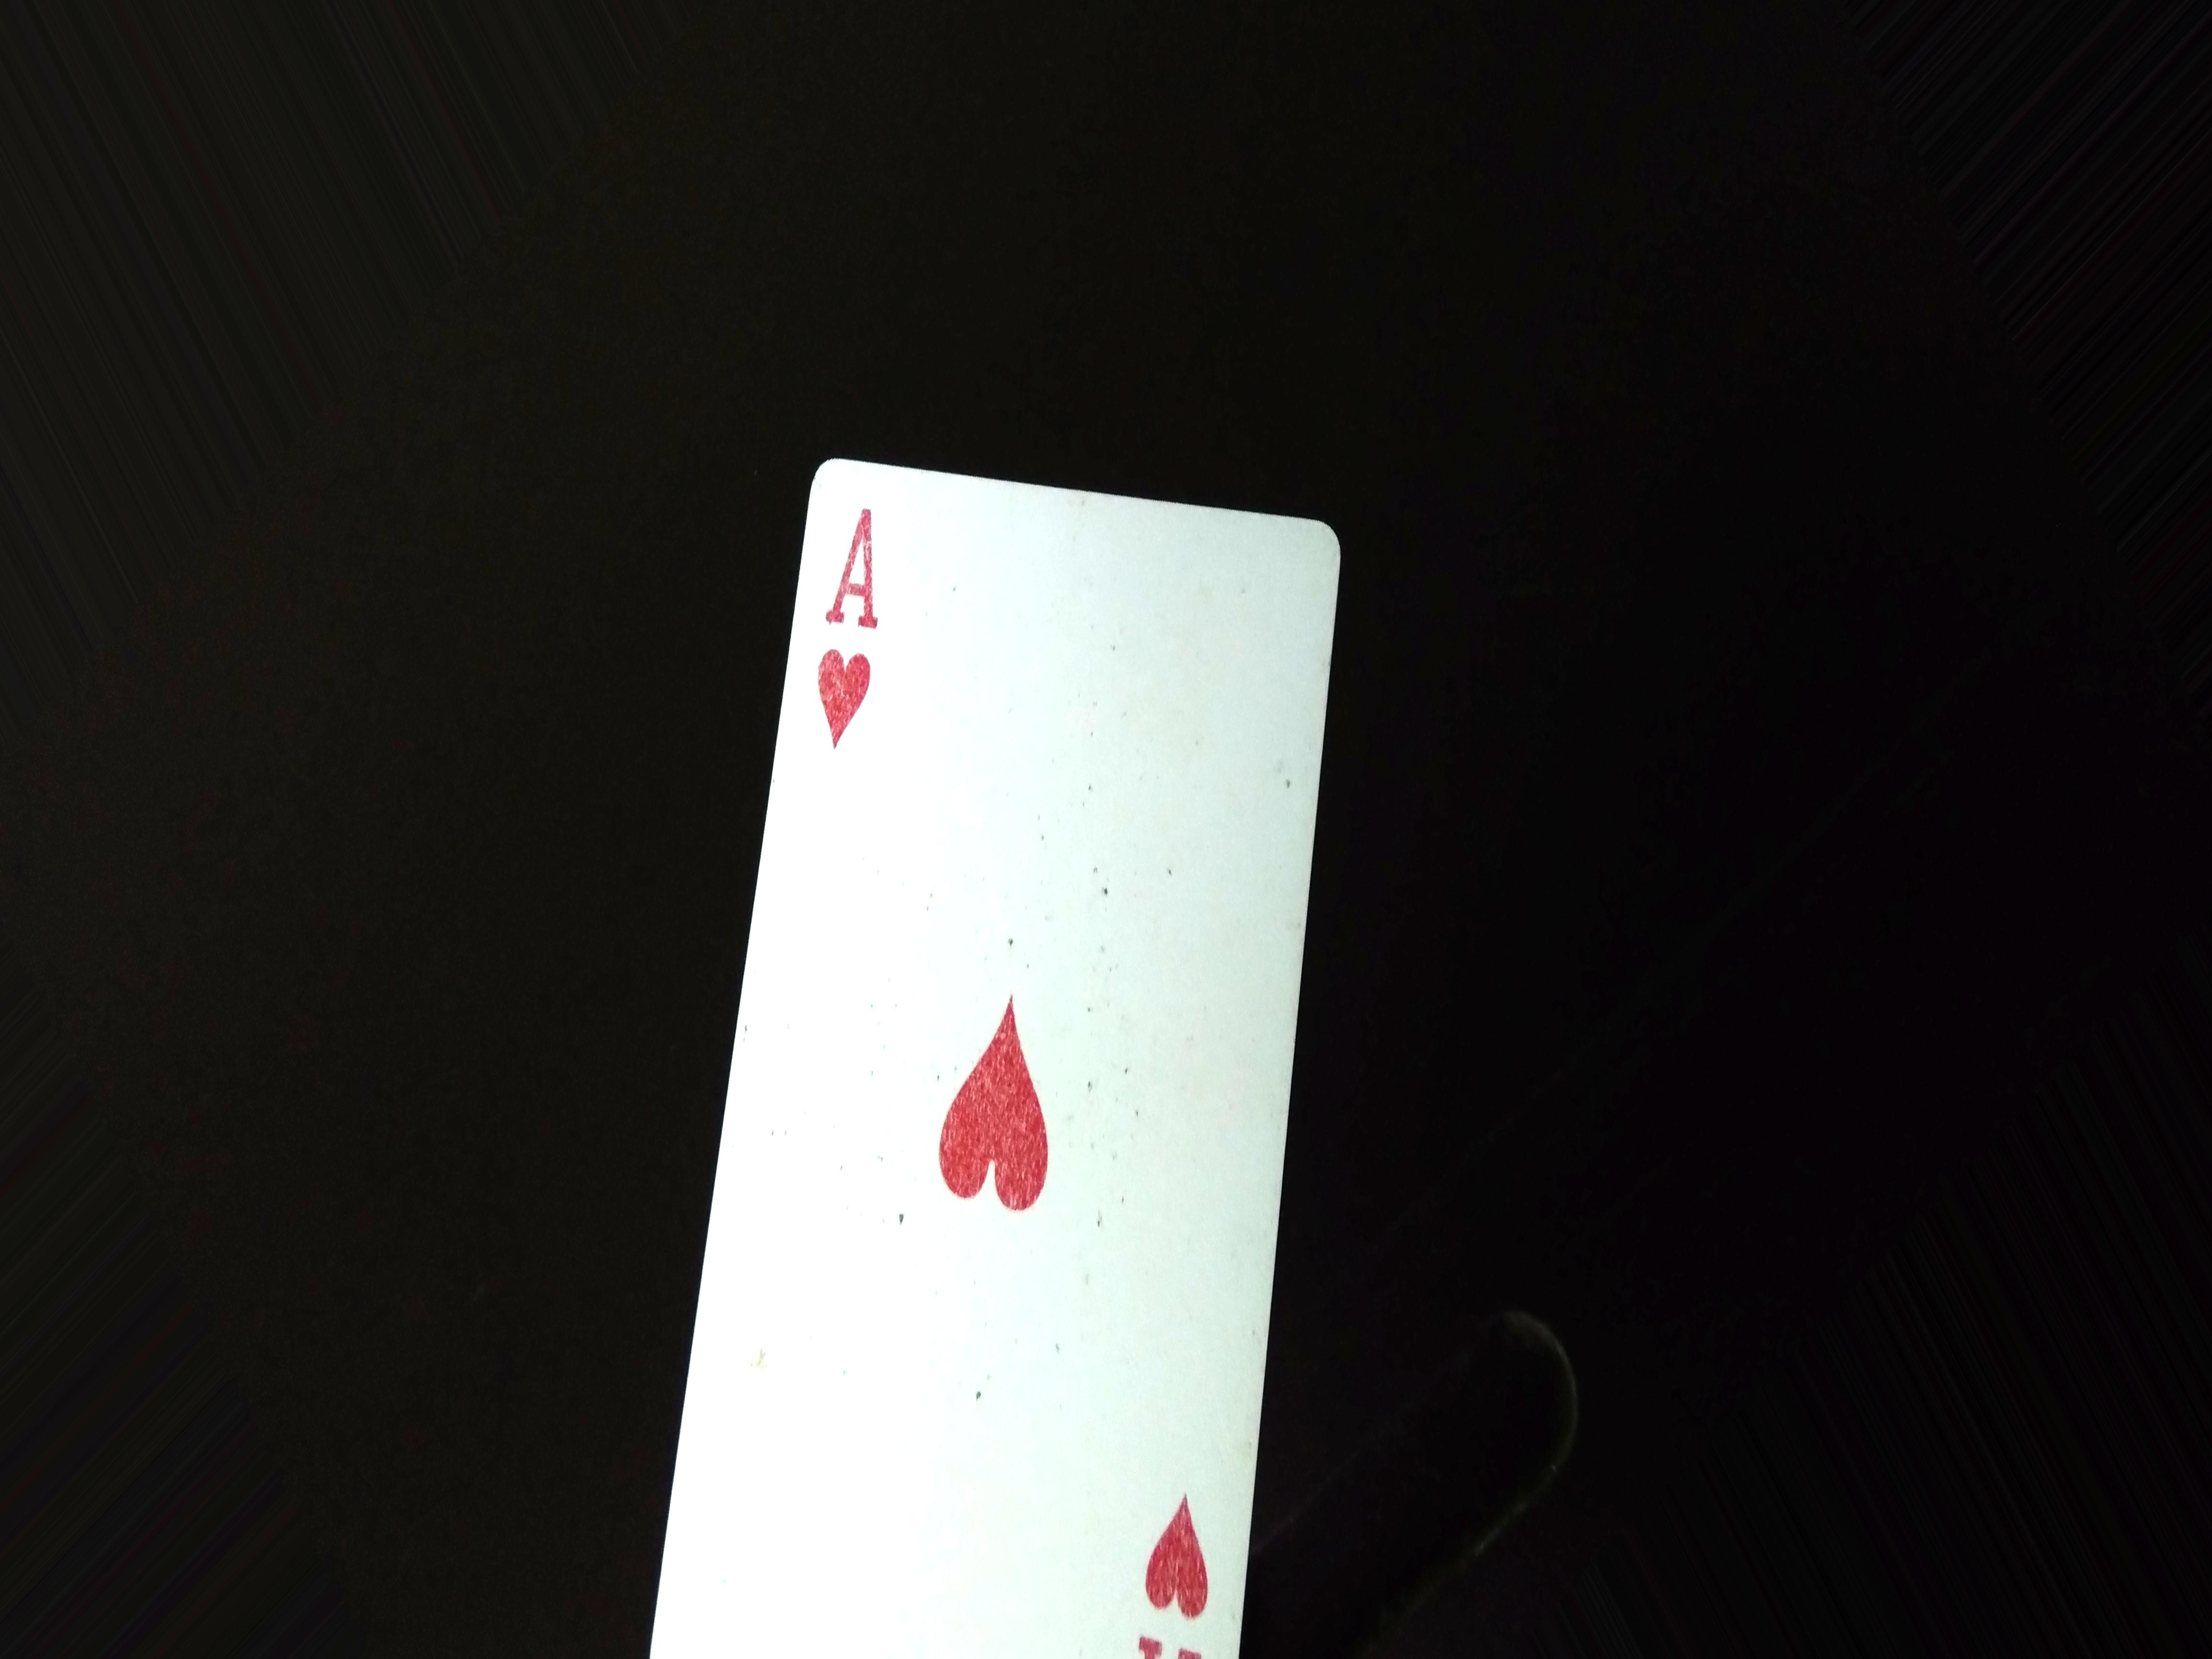AH: (815, 498, 900, 782)
